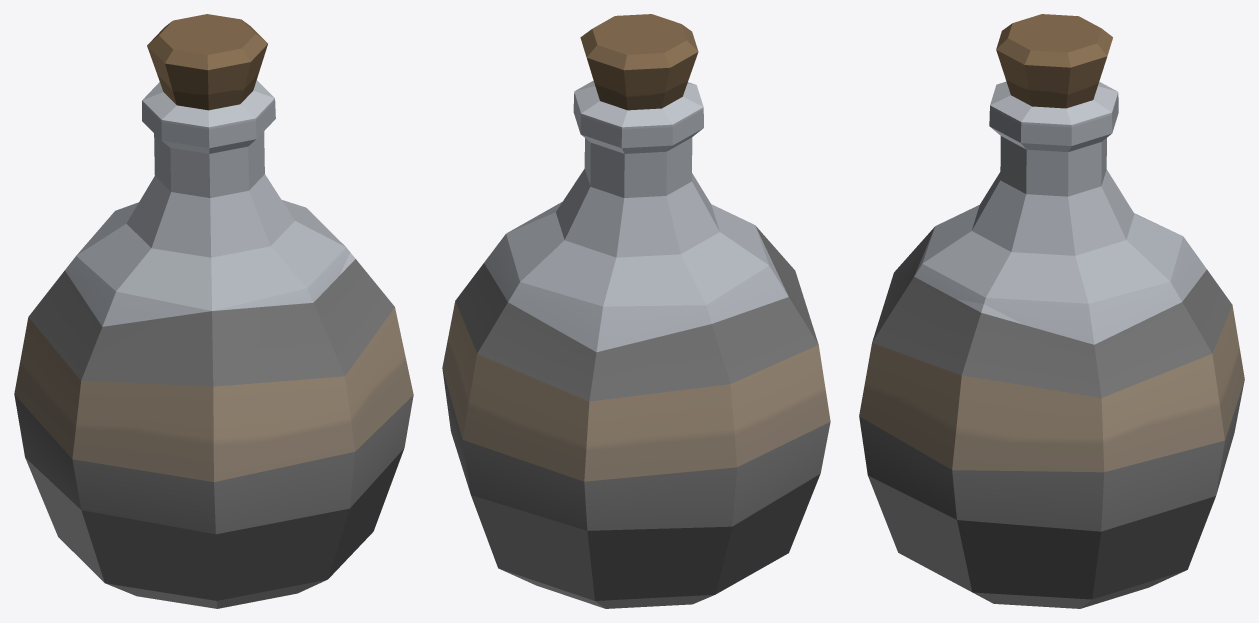
File: SM_Gen_Prop_Potion_01.glb
3 renders of one model, left to right at view 1: azimuth 30°, elevation 25°; view 2: azimuth 150°, elevation 25°; view 3: azimuth 270°, elevation 25°, orthographic.
Visible parts, largest first — view 1: SM_Gen_Prop_Potion_01; view 2: SM_Gen_Prop_Potion_01; view 3: SM_Gen_Prop_Potion_01.
Part boxes in pixels (x1,y1,x2,y2): SM_Gen_Prop_Potion_01: [14, 14, 413, 608]; SM_Gen_Prop_Potion_01: [442, 14, 830, 608]; SM_Gen_Prop_Potion_01: [859, 14, 1244, 608].
Size of the model in its own units: 0.232 by 0.3562 by 0.2321.
1 material, 1 textured.
